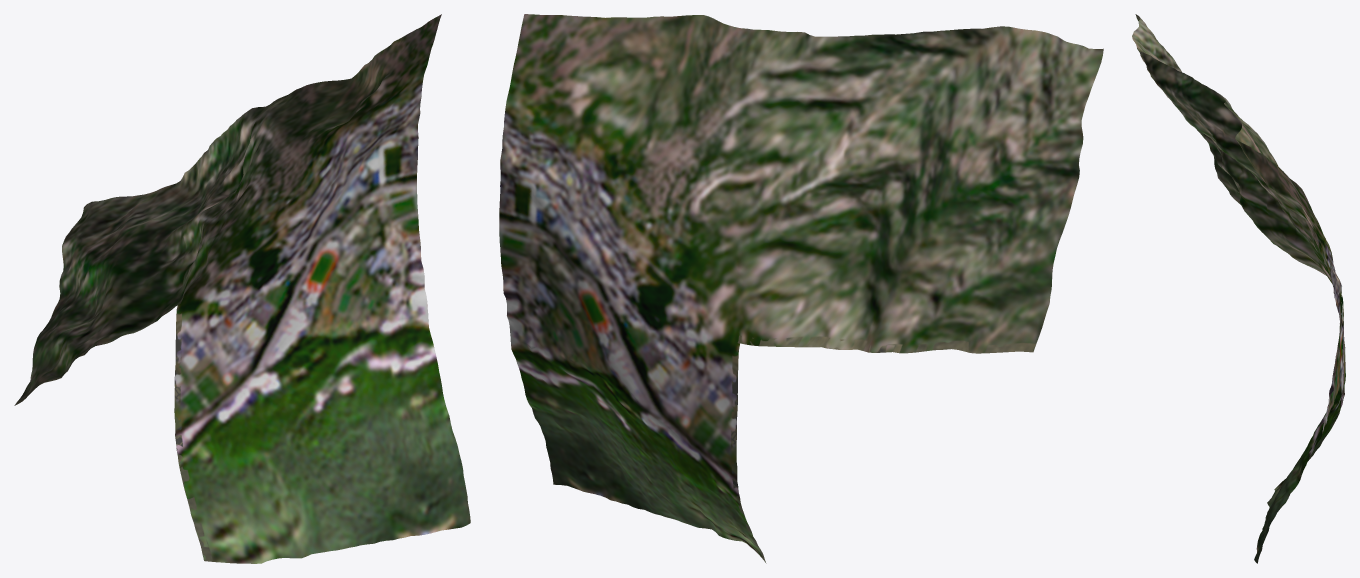
Rendered from ground_far_02_02.obj.
3 views of the same model, side by side, from view 1: azimuth 30°, elevation 25°; view 2: azimuth 150°, elevation 25°; view 3: azimuth 270°, elevation 25° (orthographic). The views are drawn at different scales.
Visible parts, largest first — view 1: ground_far_02_02; view 2: ground_far_02_02; view 3: ground_far_02_02.
Boxes of the visible parts, x1,y1,x2,y2 form: ground_far_02_02: (14, 14, 470, 563); ground_far_02_02: (499, 14, 1103, 563); ground_far_02_02: (1132, 14, 1345, 563).
Size of the model in its own units: 2000 by 2000 by 1034.
Materials: 1 (1 with a texture image).
